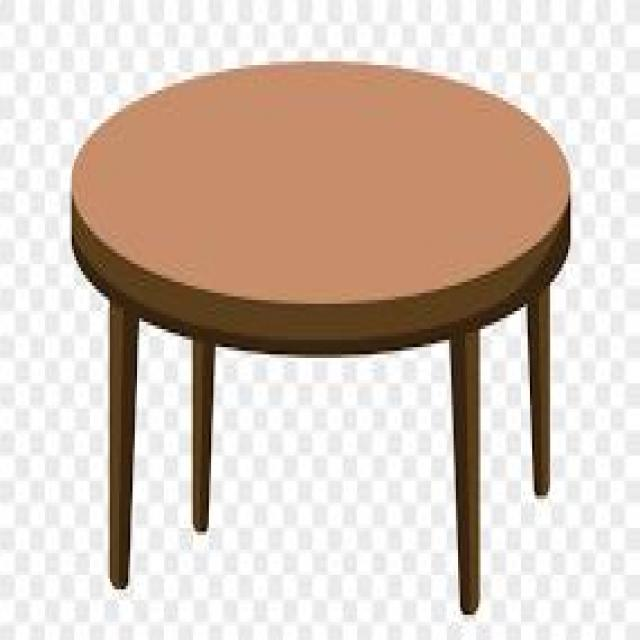desk: (48, 31, 588, 620)
